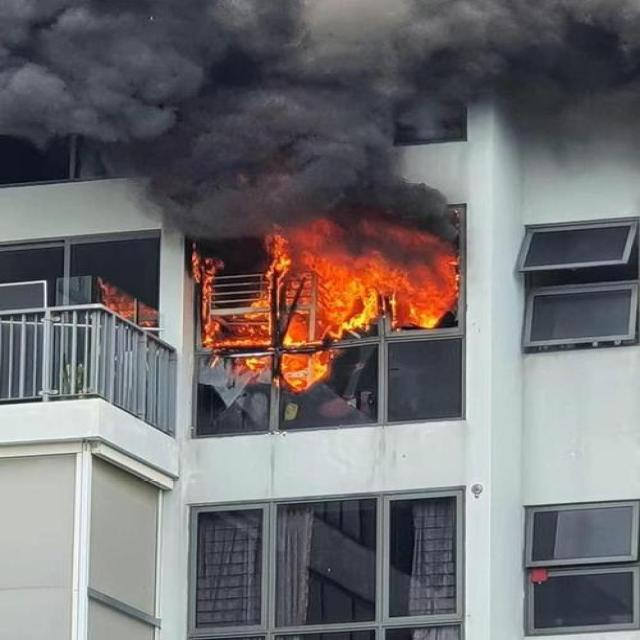Fire: (272, 228, 456, 339), (244, 353, 334, 394), (258, 225, 288, 268)
Smoke: (1, 0, 640, 226)
